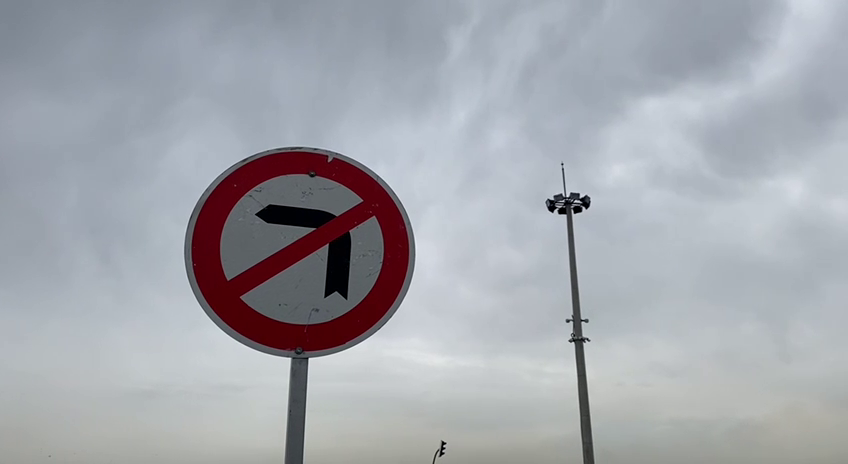noTurnLeft: (178, 141, 419, 364)
